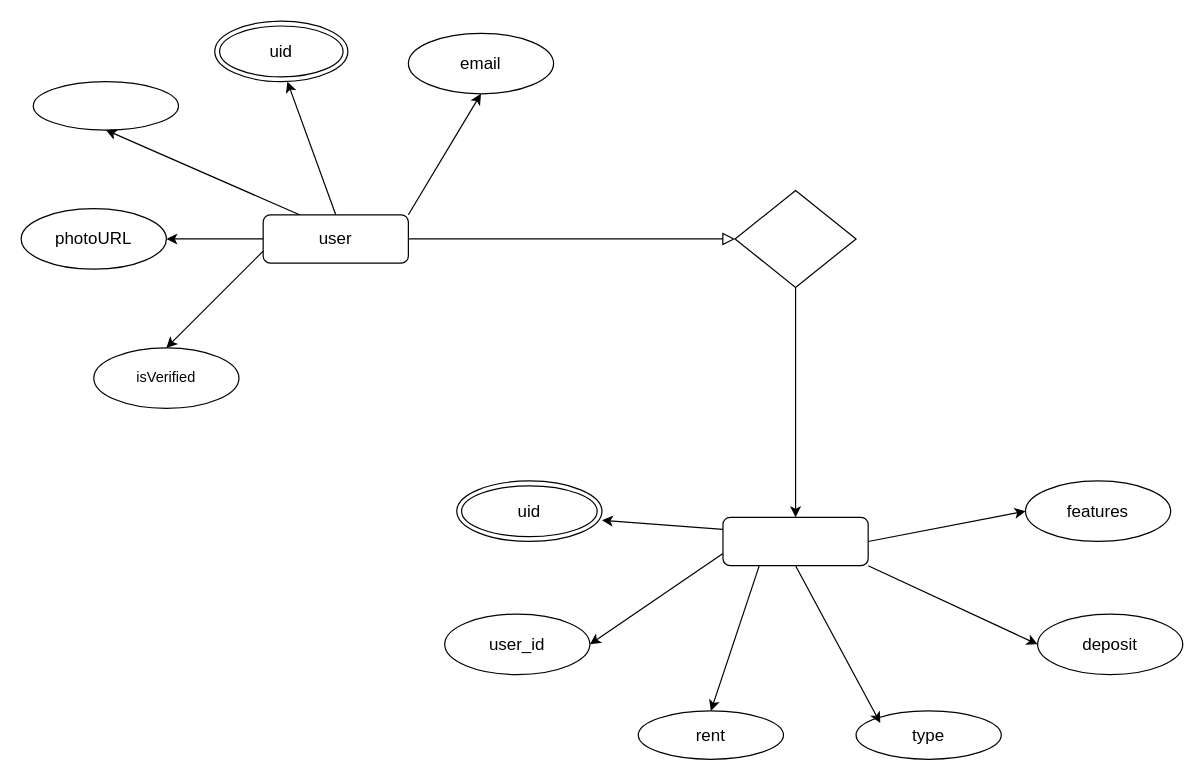
The diagram is 1204 pixels wide and 780 high, and some of its shapes have lost their labels. The shapes that lost their labels are listed below. From the top down, each one's centre as x and y in pixels, then its label:
(105,105): displayName
(795,238): post/views/update
(795,541): ads
